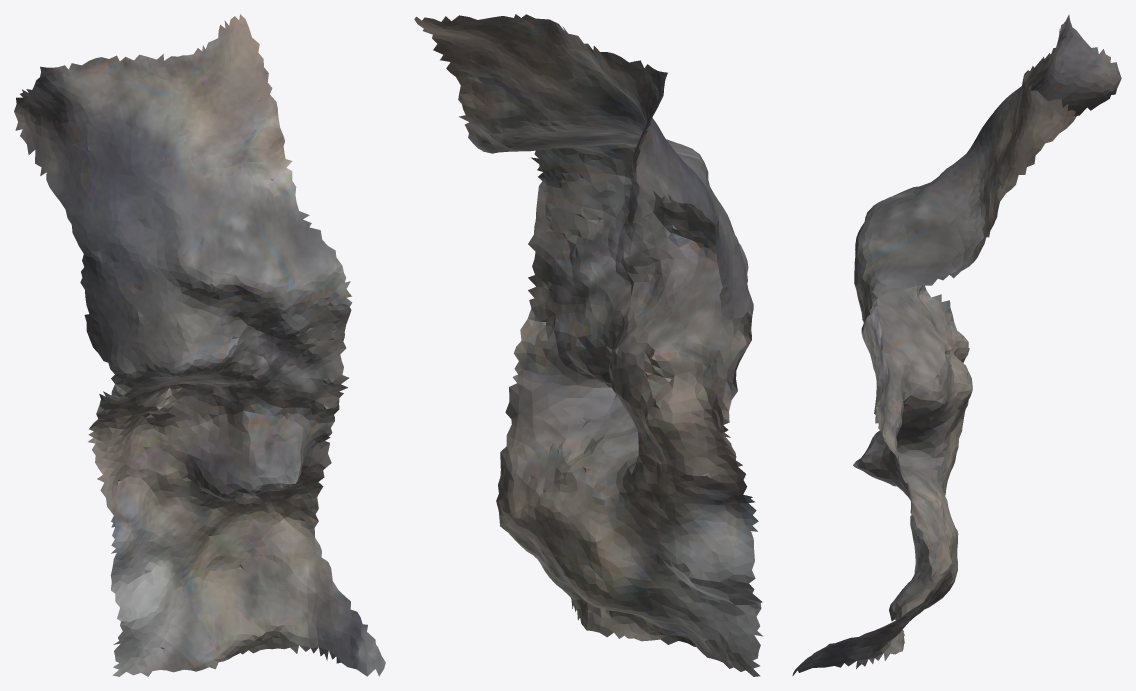
The model's file is tile_0317.gltf.
The picture shows the model from 3 angles, left to right: view 1: azimuth 30°, elevation 25°; view 2: azimuth 150°, elevation 25°; view 3: azimuth 270°, elevation 25°; orthographic projection. The views are drawn at different scales.
Visible parts, largest first — view 1: defaultobject; view 2: defaultobject; view 3: defaultobject.
Part boxes in pixels (x1,y1,x2,y2): defaultobject: [14, 14, 385, 676]; defaultobject: [414, 14, 763, 676]; defaultobject: [792, 14, 1121, 676].
Bounding box in the file's own units: 0.1631 × 0.4053 × 0.2131.
1 material, 1 textured.
